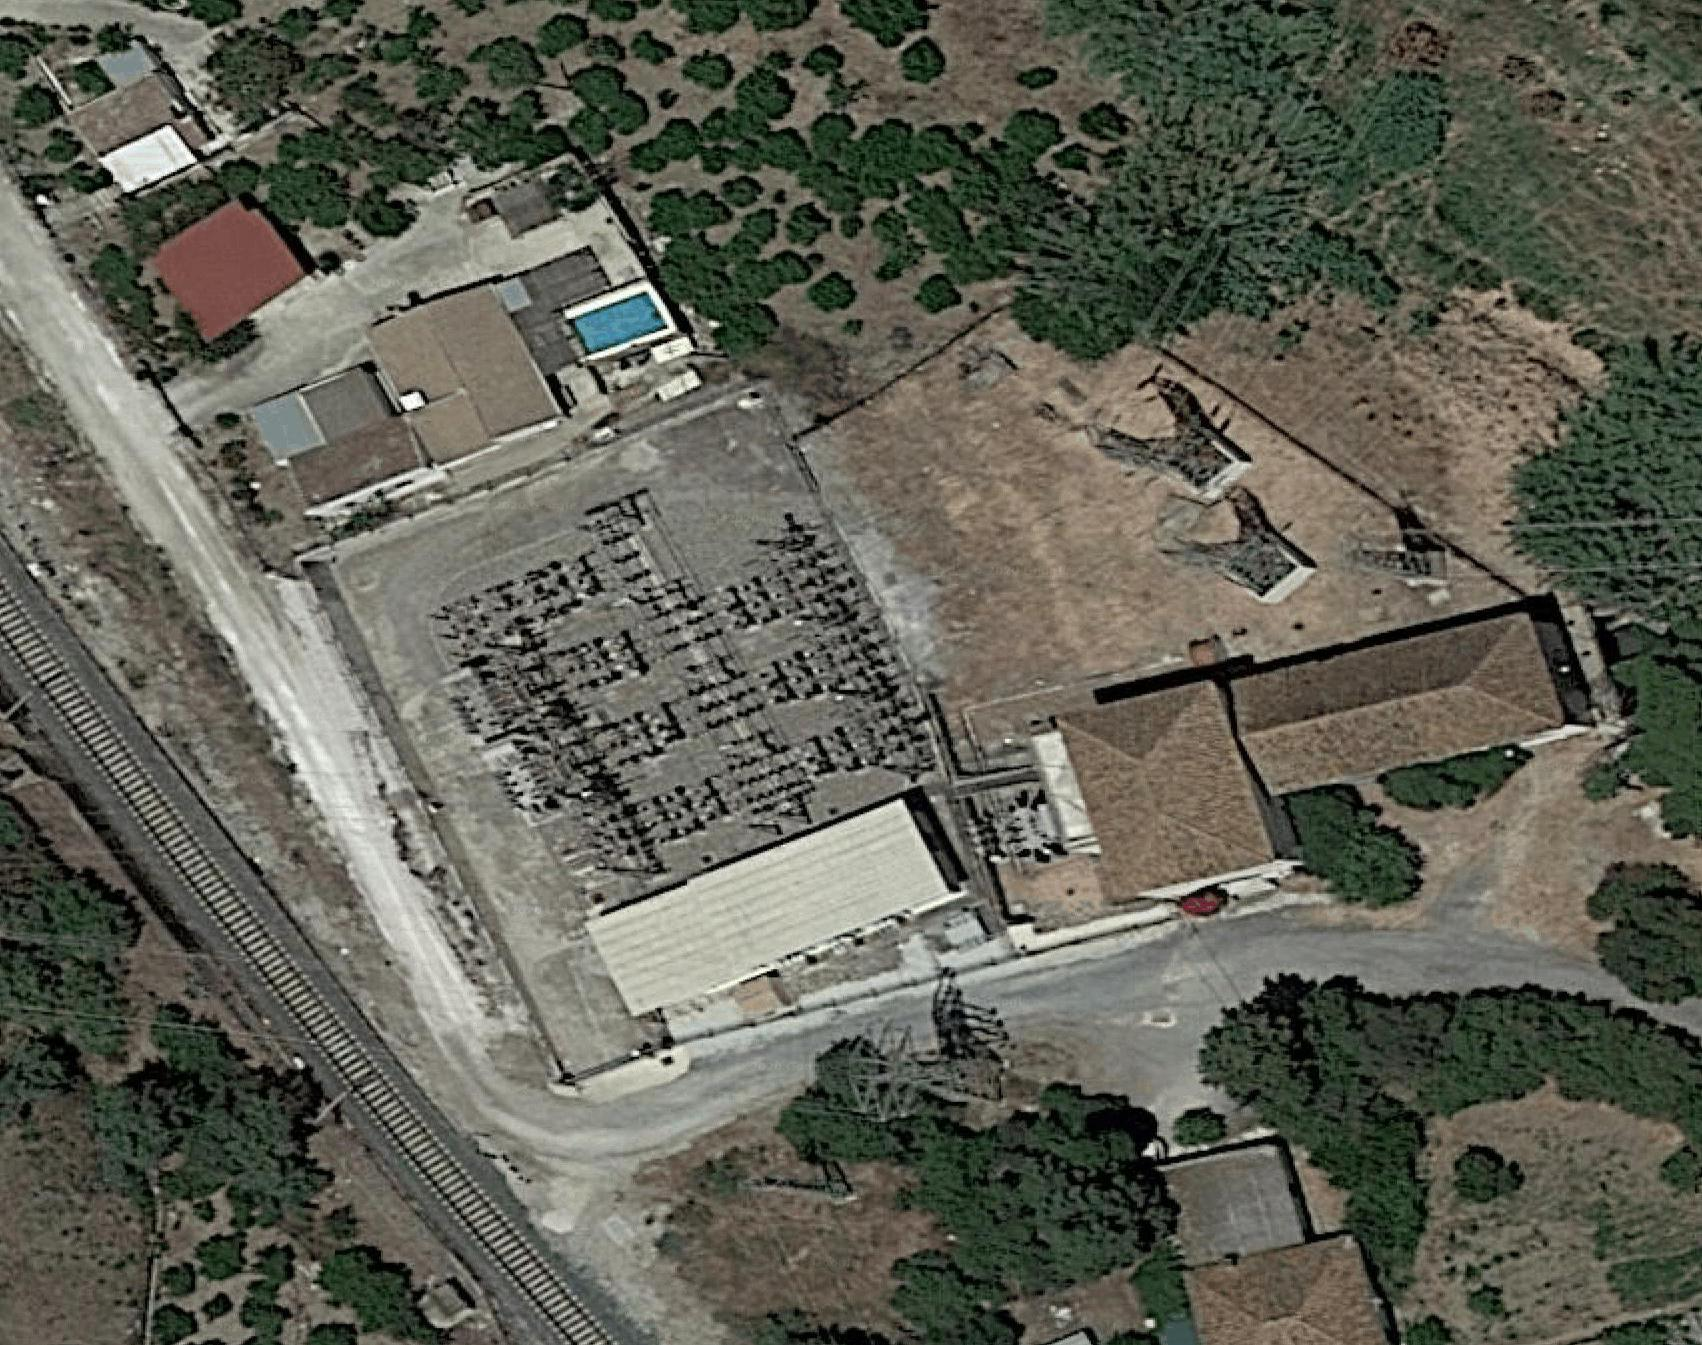substation: (419, 481, 1080, 904)
